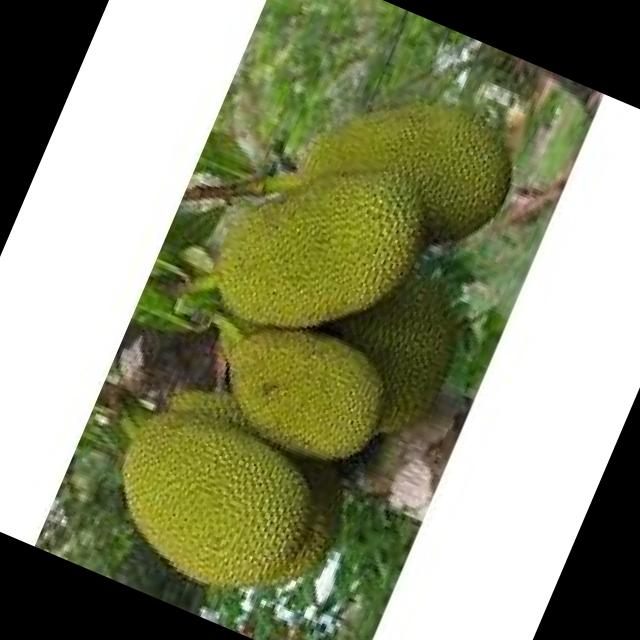Fruit: (186, 19, 554, 406), (74, 350, 383, 637)
